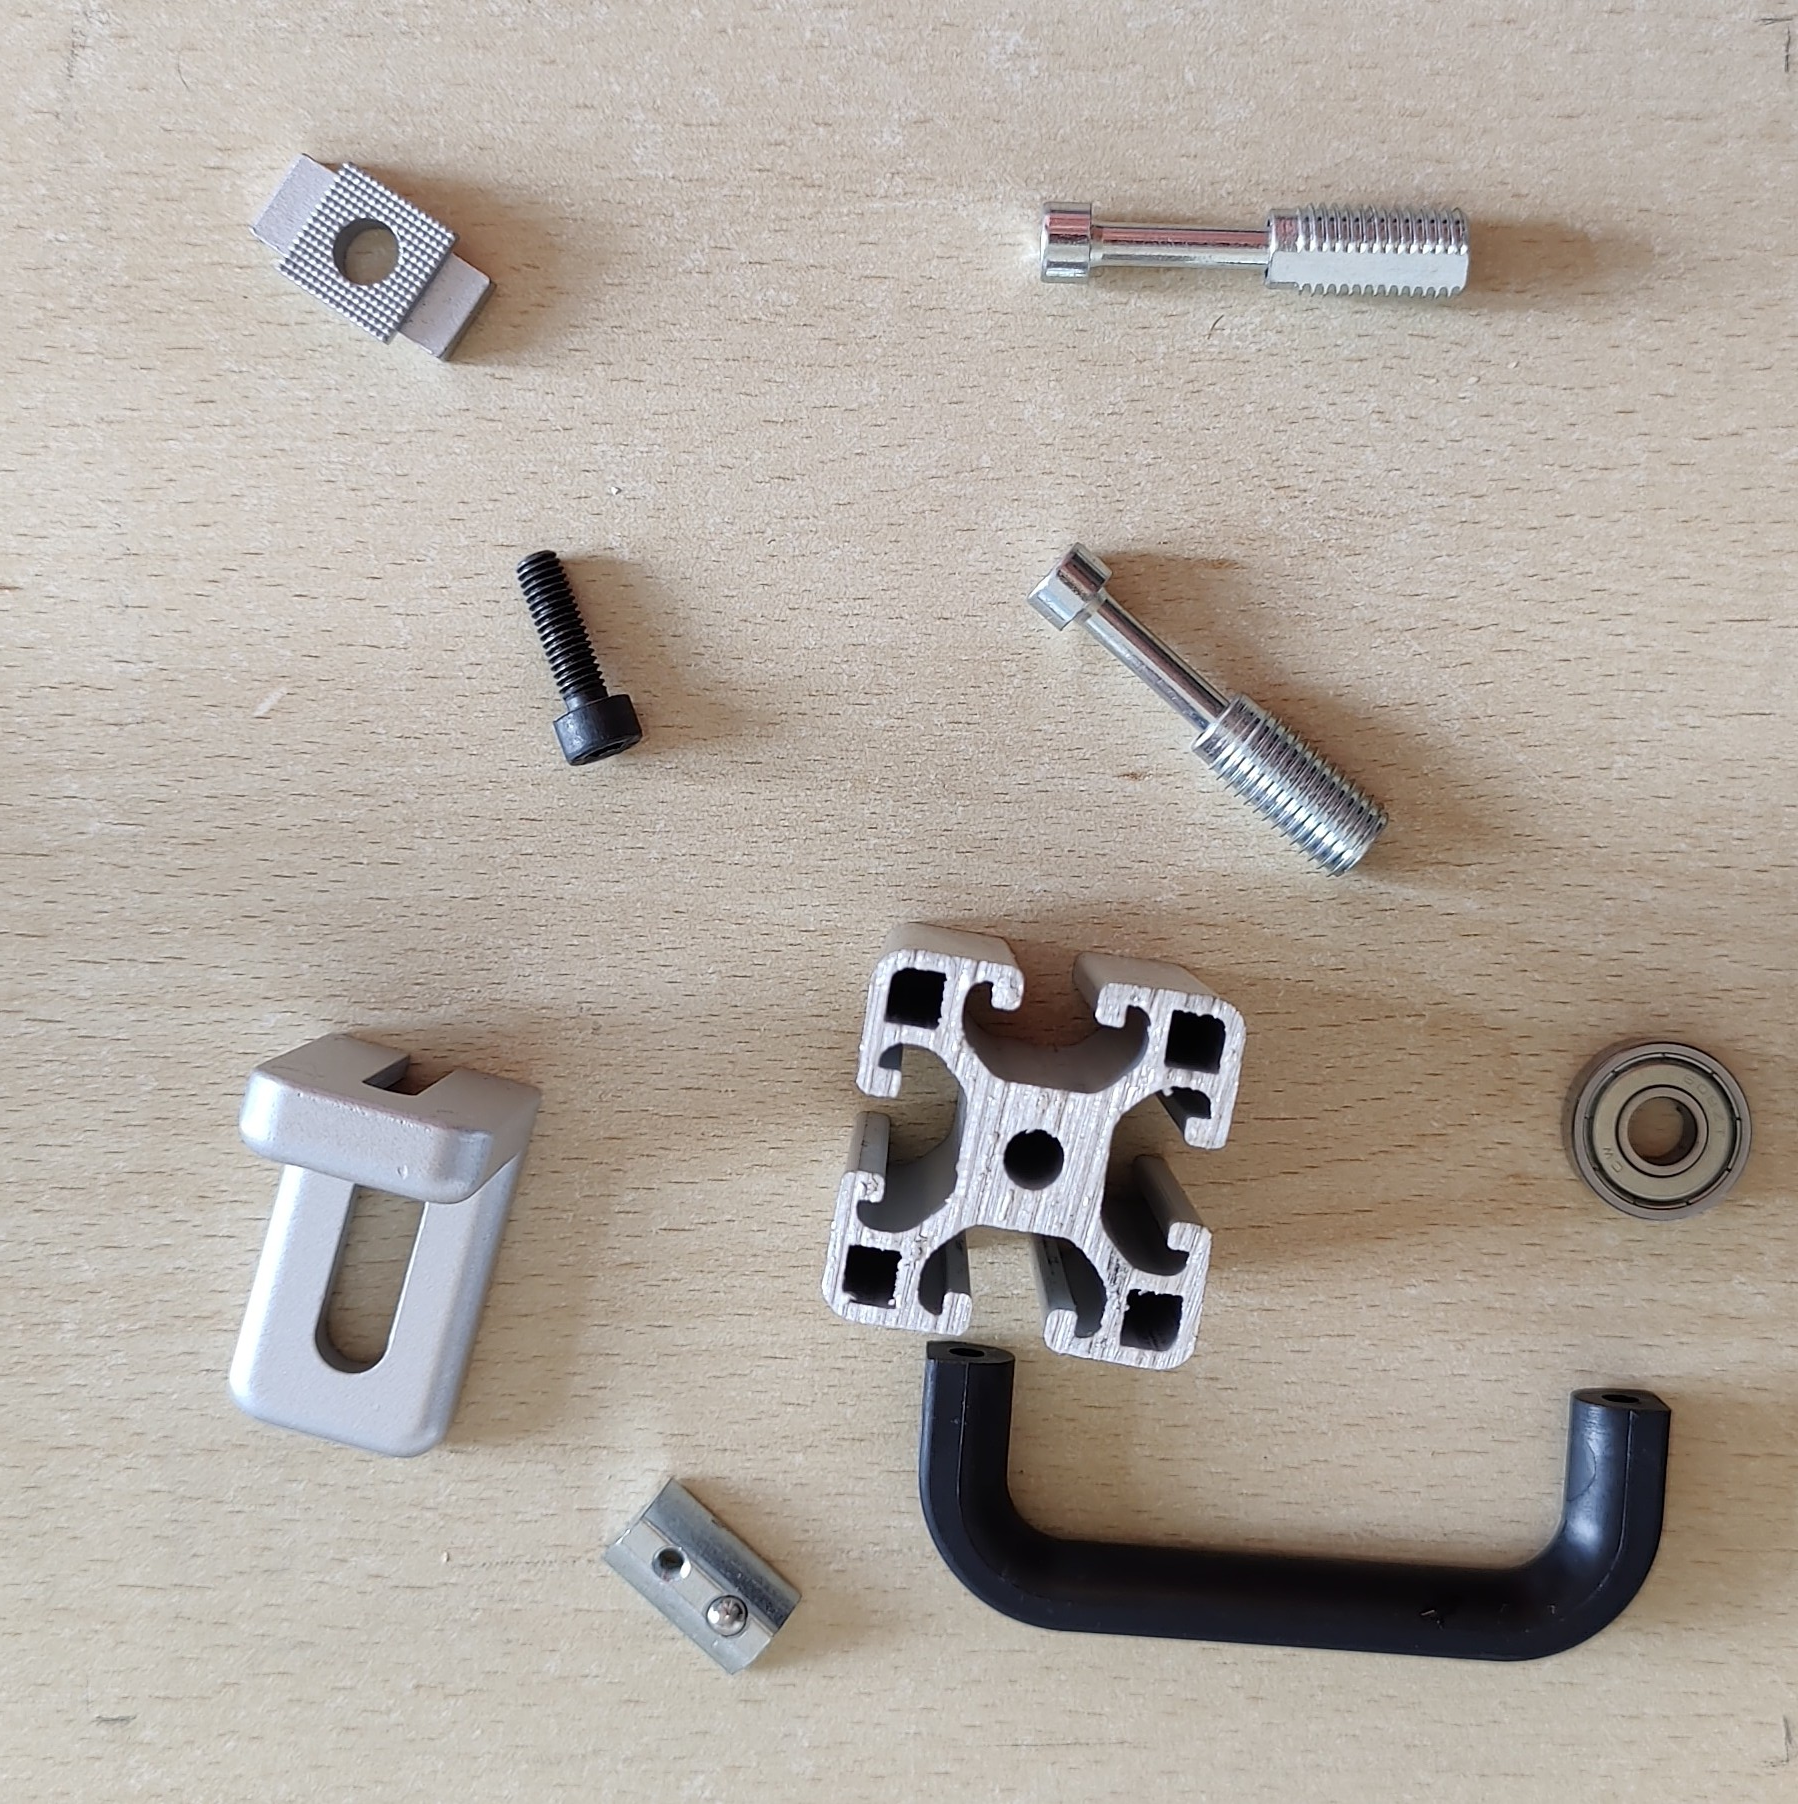Aluminium Extension: (822, 923, 1250, 1373)
Ball Bearing: (1554, 1034, 1755, 1221)
Multiwinkel: (226, 1030, 545, 1462)
Pull Handle: (919, 1333, 1673, 1664)
Shoulder Socket Head Cap Screw: (1022, 537, 1395, 882), (1032, 189, 1474, 308)
Socket Head Cap Screw: (509, 545, 645, 770)
T Nut Square: (249, 146, 501, 365)
T Spring Nut: (598, 1472, 804, 1679)
